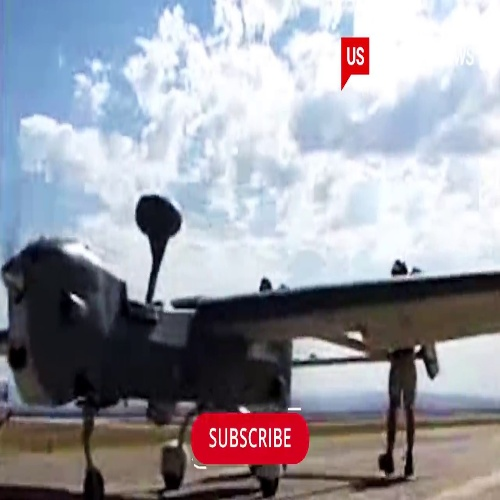uav547: (2, 194, 500, 493)
